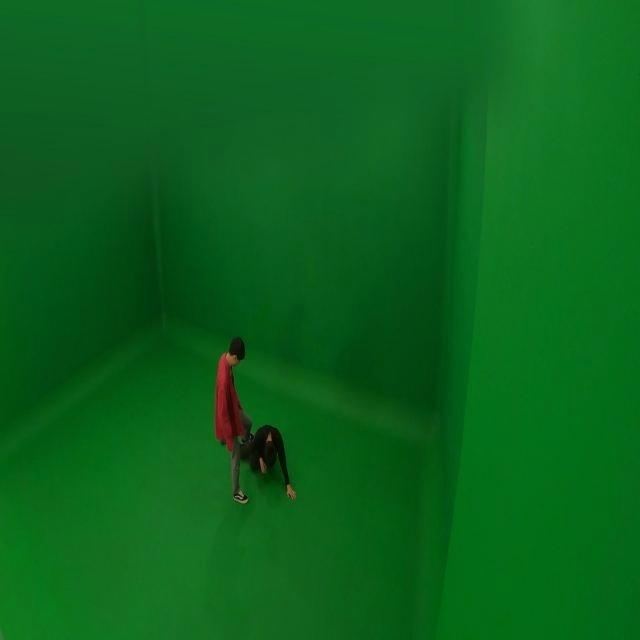fight: (208, 333, 299, 507)
